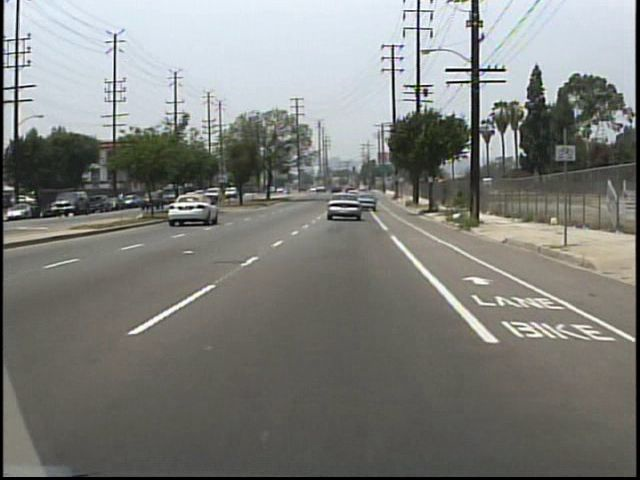person: (116, 190, 126, 210)
